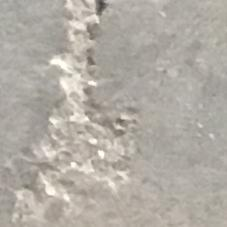Spalling: (10, 1, 138, 227)
